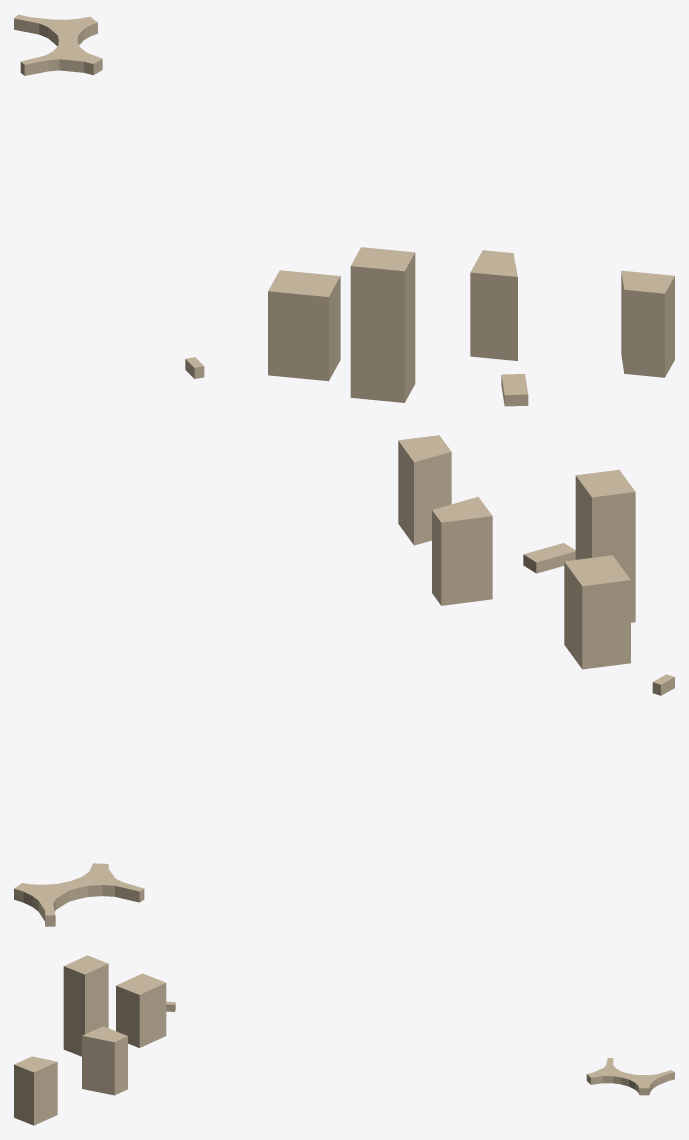
The model's file is -15_-1-estimated-coarse.glb.
3 views of the same model, one above another, from view 1: azimuth 30°, elevation 25°; view 2: azimuth 150°, elevation 25°; view 3: azimuth 270°, elevation 25° (orthographic). The views are drawn at different scales.
Bounding box in the file's own units: 426 × 141 × 1014.
